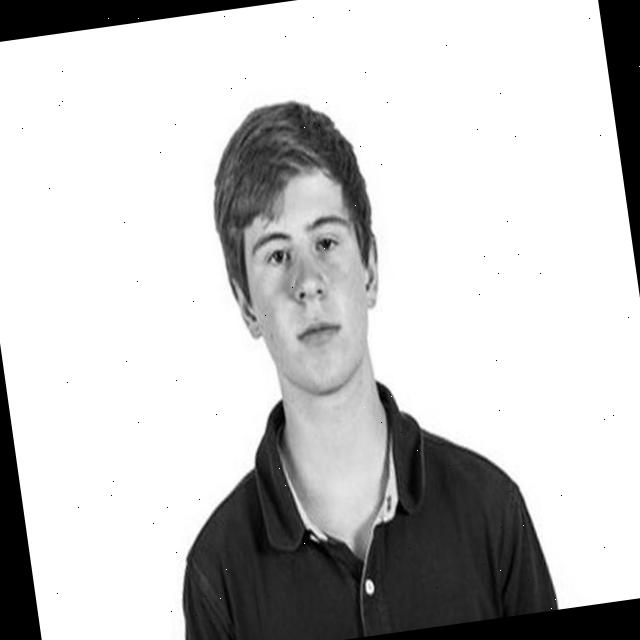Neutral: (234, 168, 380, 400)
